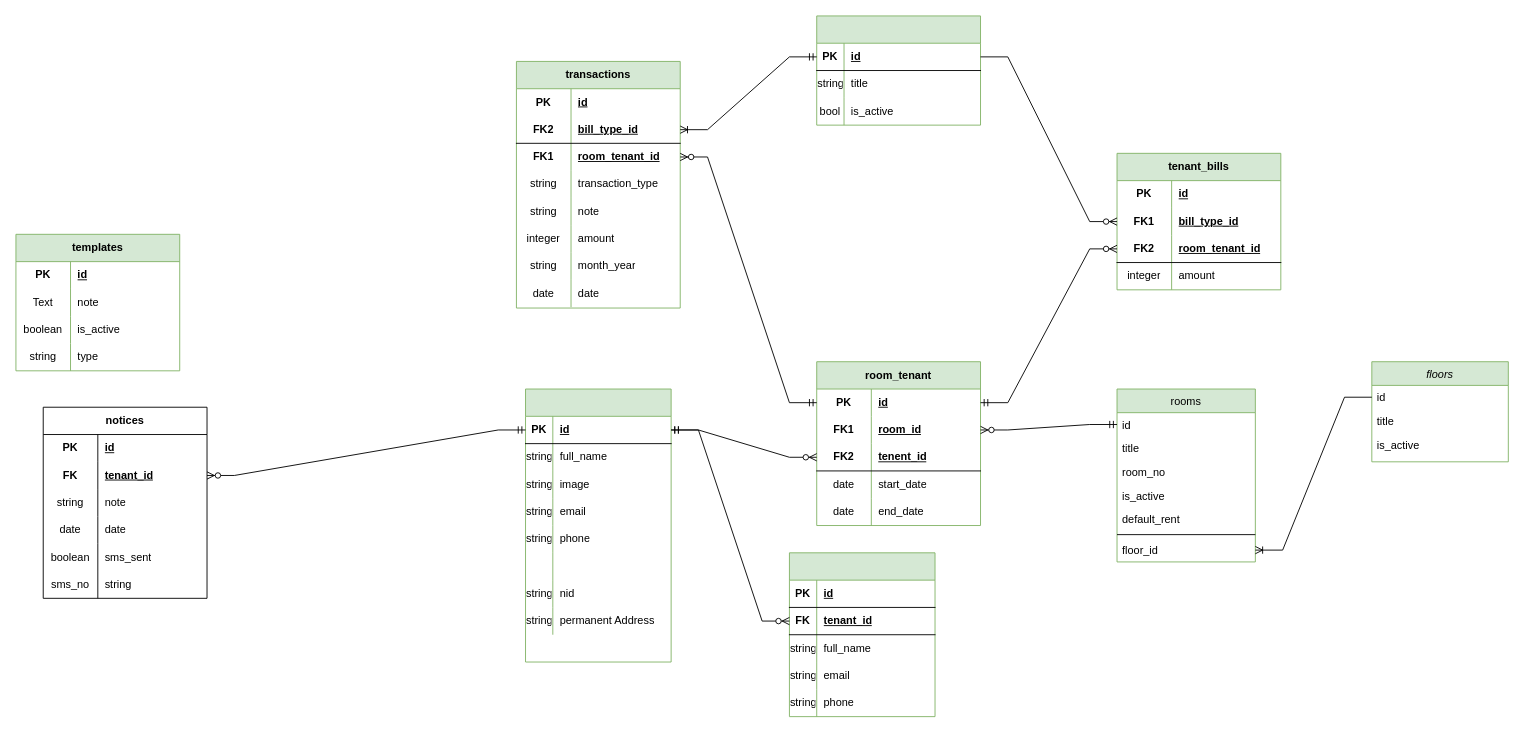
Image size: 1524x733. Some labels were removed from this diagram. The shapes that lost their labels are listed below. From the top down, each one's box as (x1, y1, x2, y2) in pixels, then its label:
(816, 15, 981, 125): bil_types
(525, 388, 671, 662): tenants
(789, 552, 935, 717): tenant_relatives
